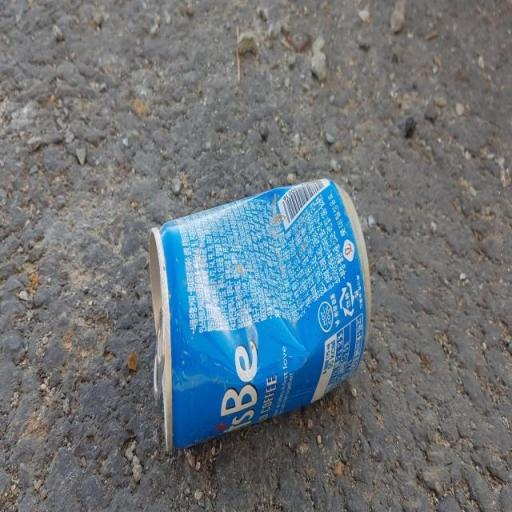metal: (98, 141, 396, 488)
